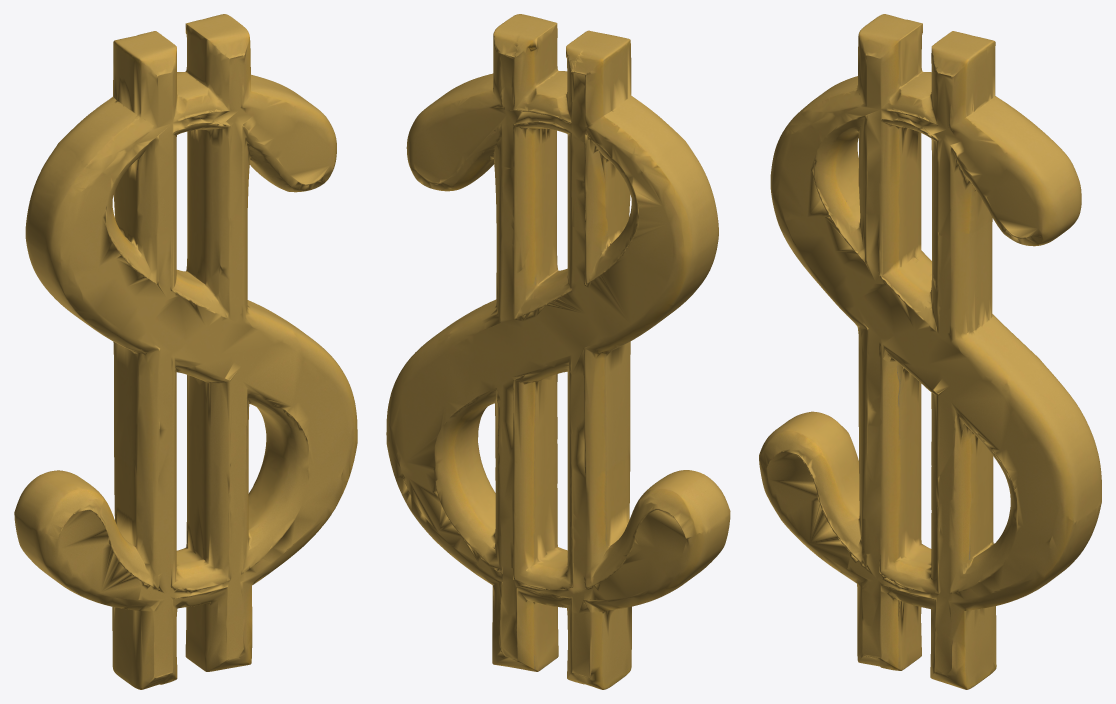
The model's file is dollars.glb.
3 renders of one model, left to right at view 1: azimuth 30°, elevation 25°; view 2: azimuth 150°, elevation 25°; view 3: azimuth 330°, elevation 25°, orthographic.
Parts seen in each view (by area): view 1: tripo_node_af9d8b9c-2135-4372-8c62-e94482ddf073; view 2: tripo_node_af9d8b9c-2135-4372-8c62-e94482ddf073; view 3: tripo_node_af9d8b9c-2135-4372-8c62-e94482ddf073.
Boxes of the visible parts, left/top/right/bottom form: tripo_node_af9d8b9c-2135-4372-8c62-e94482ddf073: left=14, top=14, right=357, bottom=689; tripo_node_af9d8b9c-2135-4372-8c62-e94482ddf073: left=386, top=14, right=730, bottom=689; tripo_node_af9d8b9c-2135-4372-8c62-e94482ddf073: left=759, top=14, right=1101, bottom=689.
Size of the model in its own units: 0.5173 by 0.9799 by 0.1038.
Materials: 1 (1 with a texture image).
